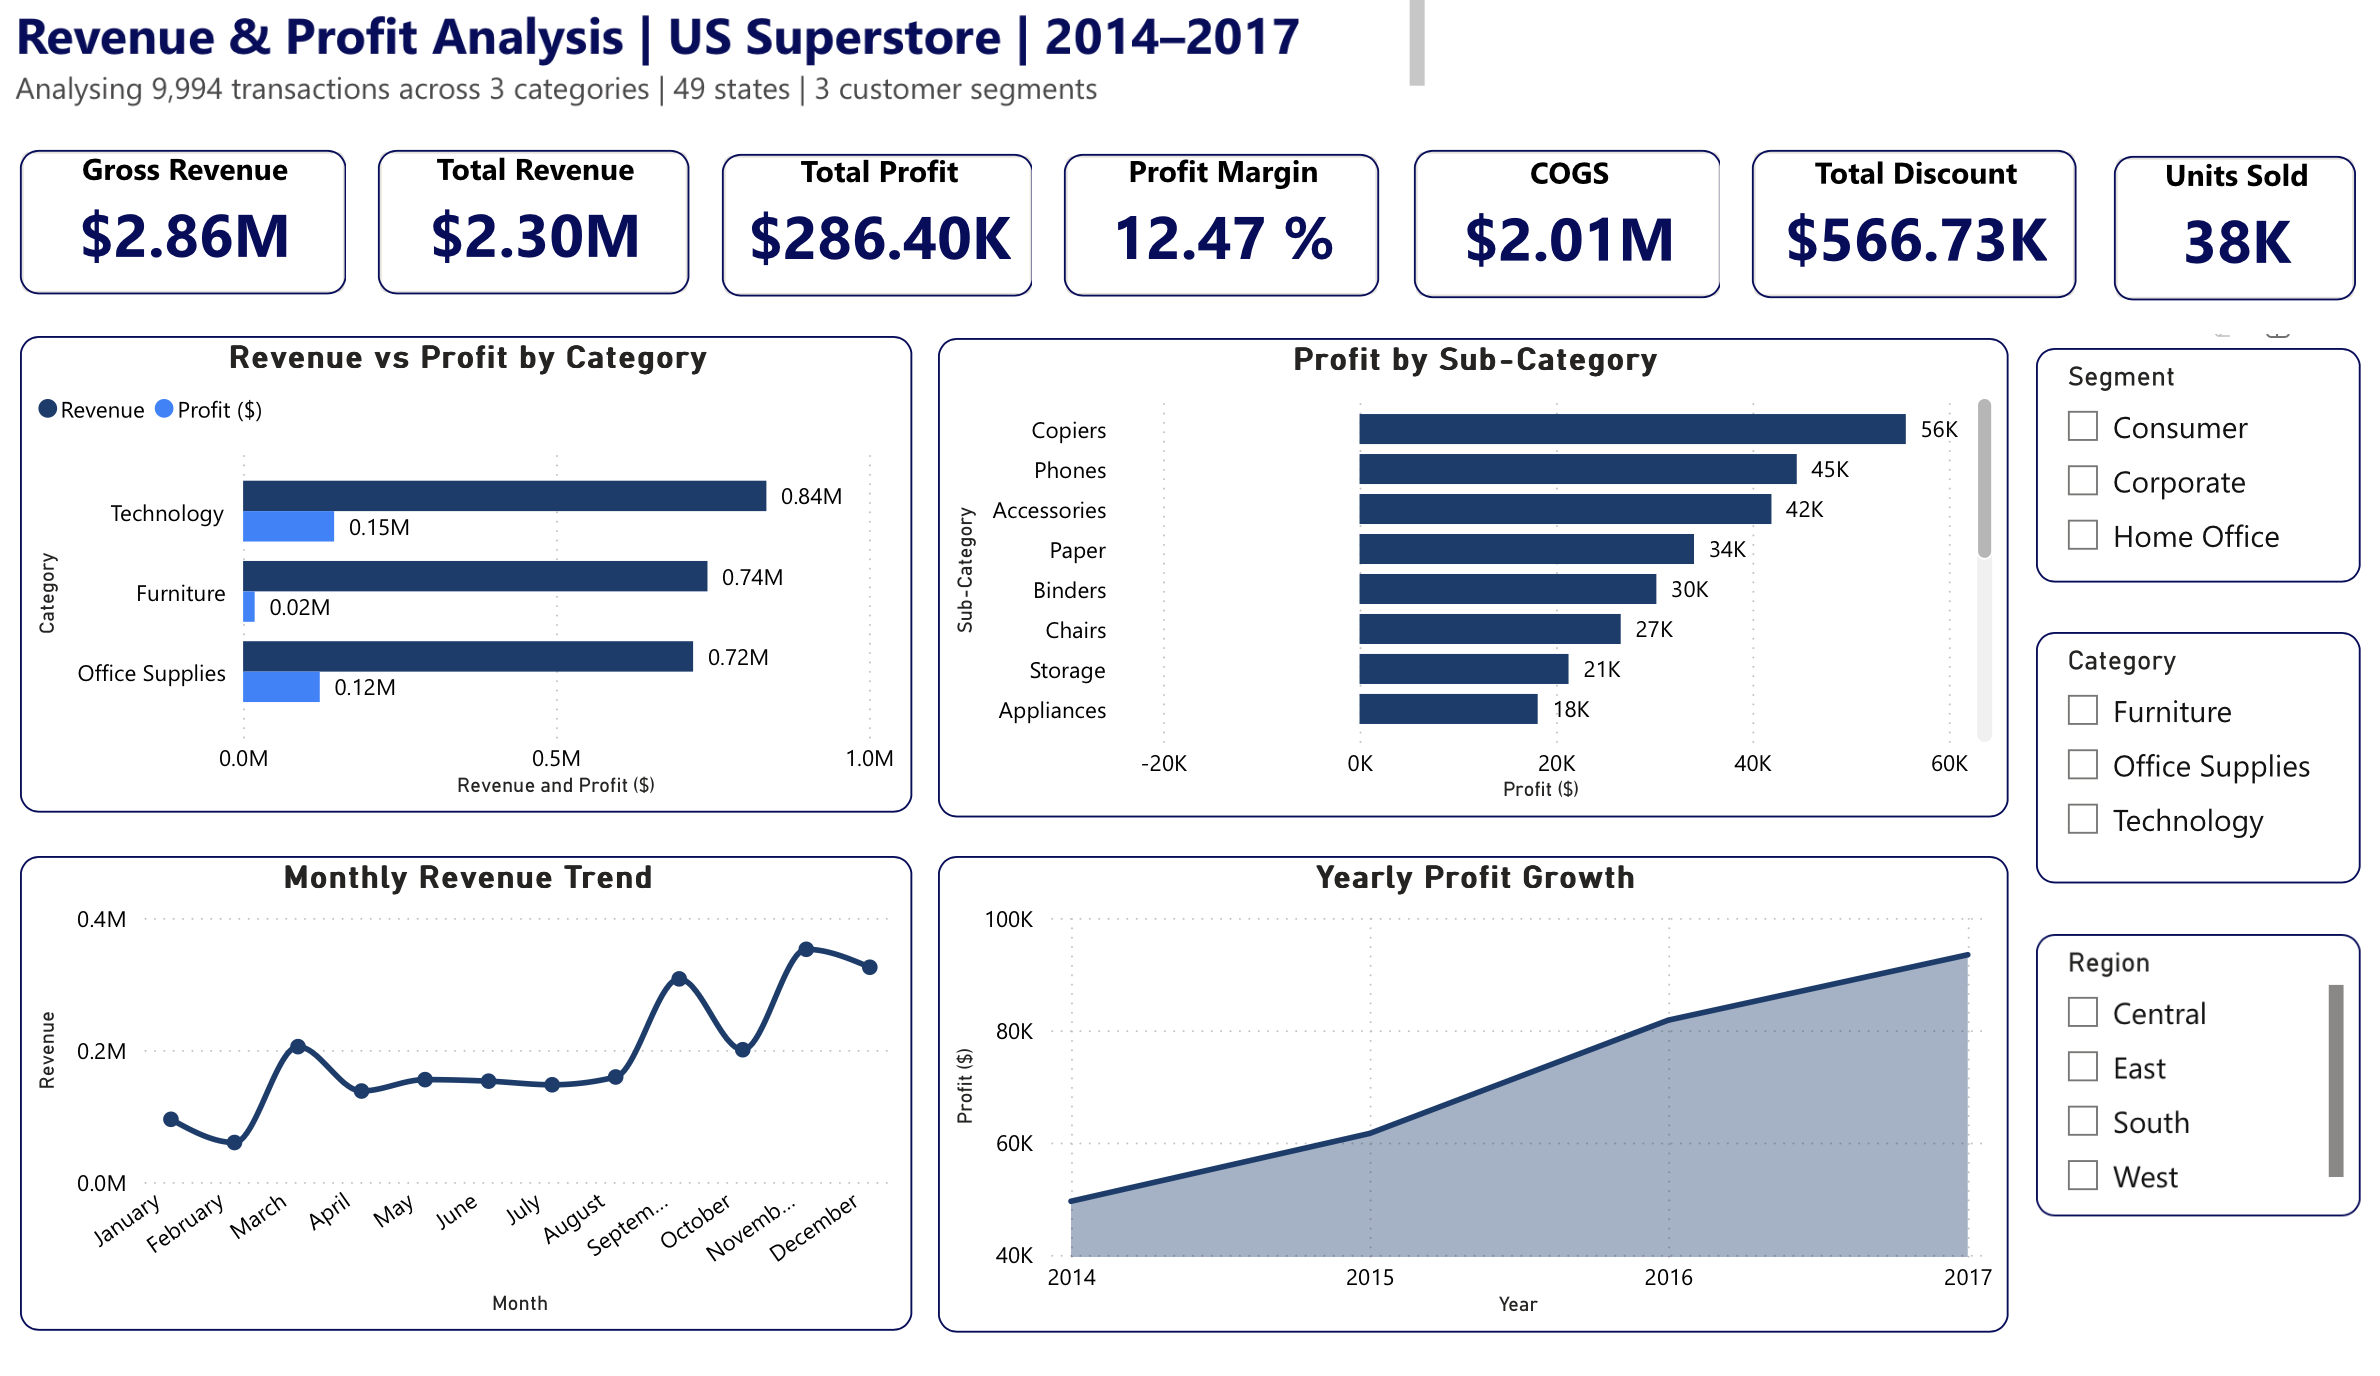

The page's visual inventory and layout, read from the dashboard file:
{"tool":"powerbi","page":{"name":"Page 1","canvas":[1280,720],"ordinal":0},"visuals":[{"type":"clusteredBarChart","title":"Revenue vs Profit by Category","fields":{"Category":["global_superstore_cleaned 4.Category"],"Y":["Sum(global_superstore_cleaned 4.Total Sales)","Sum(global_superstore_cleaned 4.Total Profit)"]},"box":[16.5,184.3,475.4,254.2],"z":0},{"type":"lineChart","title":"Monthly Revenue Trend","fields":{"Category":["global_superstore_cleaned 4.Order Date.Variation.Date Hierarchy.Year","global_superstore_cleaned 4.Order Date.Variation.Date Hierarchy.Quarter","global_superstore_cleaned 4.Order Date.Variation.Date Hierarchy.Month","global_superstore_cleaned 4.Order Date.Variation.Date Hierarchy.Day"],"Y":["Sum(global_superstore_cleaned 4.Total Sales)"]},"box":[16.5,461.4,475.4,252.9],"z":1000},{"type":"slicer","fields":{"Values":["global_superstore_cleaned 4.Segment"]},"box":[1091.6,190.6,172.9,125.2],"z":2000},{"type":"slicer","fields":{"Values":["global_superstore_cleaned 4.Category"]},"box":[1091.6,342.4,172.9,134.1],"z":3000},{"type":"slicer","fields":{"Values":["global_superstore_cleaned 4.Region"]},"box":[1091.6,503.1,172.9,150.7],"z":4000},{"type":"clusteredBarChart","title":"Profit by Sub-Category","fields":{"Category":["global_superstore_cleaned 4.Sub-Category"],"Y":["Sum(global_superstore_cleaned 4.Total Profit)"]},"box":[505.9,185.6,570.7,255.5],"z":5000},{"type":"areaChart","title":"Yearly Profit Growth","fields":{"Category":["global_superstore_cleaned 4.Order Date.Variation.Date Hierarchy.Year","global_superstore_cleaned 4.Order Date.Variation.Date Hierarchy.Quarter","global_superstore_cleaned 4.Order Date.Variation.Date Hierarchy.Month","global_superstore_cleaned 4.Order Date.Variation.Date Hierarchy.Day"],"Y":["Sum(global_superstore_cleaned 4.Total Profit)"]},"box":[506.5,461,570.7,253.8],"z":6000},{"type":"textbox","box":[10,0,761.4,75.4],"z":7000},{"type":"cardVisual","title":"Gross Sales","fields":{"Data":["global_superstore_cleaned 4.Gross Sales"]},"box":[0,68.6,208.5,111.9],"z":8000},{"type":"cardVisual","title":"Gross Sales","fields":{"Data":["Sum(global_superstore_cleaned 4.Total Sales)"]},"box":[190.7,68.6,200.8,111.9],"z":9000},{"type":"cardVisual","title":"Gross Sales","fields":{"Data":["Sum(global_superstore_cleaned 4.Total Profit)"]},"box":[373.7,69.9,200.8,110.6],"z":10000},{"type":"cardVisual","title":"Gross Sales","fields":{"Data":["global_superstore_cleaned 4.Profit Margin %"]},"box":[556.7,69.9,202.1,110.6],"z":11000},{"type":"cardVisual","title":"Gross Sales","fields":{"Data":["global_superstore_cleaned 4.COGS"]},"box":[742.3,68.6,198.3,113.1],"z":12000},{"type":"cardVisual","title":"Gross Sales","fields":{"Data":["global_superstore_cleaned 4.Total Discount"]},"box":[922.8,68.6,207.2,113.1],"z":13000},{"type":"cardVisual","title":"Gross Sales","fields":{"Data":["Sum(global_superstore_cleaned 4.Units Sold)"]},"box":[1116,71.2,164,111.9],"z":14000}]}

Visuals, with their boxes in screenshot pixels (x1, y1, x2, y2), scaled from the page's 1280x720 canvas onto the 2380x1376 screenshot:
"Revenue vs Profit by Category" clusteredBarChart: bbox=[31, 352, 915, 838]
"Monthly Revenue Trend" lineChart: bbox=[31, 882, 915, 1365]
slicer - global_superstore_cleaned 4.Segment: bbox=[2030, 364, 2351, 604]
slicer - global_superstore_cleaned 4.Category: bbox=[2030, 654, 2351, 911]
slicer - global_superstore_cleaned 4.Region: bbox=[2030, 961, 2351, 1249]
"Profit by Sub-Category" clusteredBarChart: bbox=[941, 355, 2002, 843]
"Yearly Profit Growth" areaChart: bbox=[942, 881, 2003, 1366]
textbox: bbox=[19, 0, 1434, 144]
"Gross Sales" cardVisual: bbox=[0, 131, 388, 345]
"Gross Sales" cardVisual: bbox=[355, 131, 728, 345]
"Gross Sales" cardVisual: bbox=[695, 134, 1068, 345]
"Gross Sales" cardVisual: bbox=[1035, 134, 1411, 345]
"Gross Sales" cardVisual: bbox=[1380, 131, 1749, 347]
"Gross Sales" cardVisual: bbox=[1716, 131, 2101, 347]
"Gross Sales" cardVisual: bbox=[2075, 136, 2379, 350]
